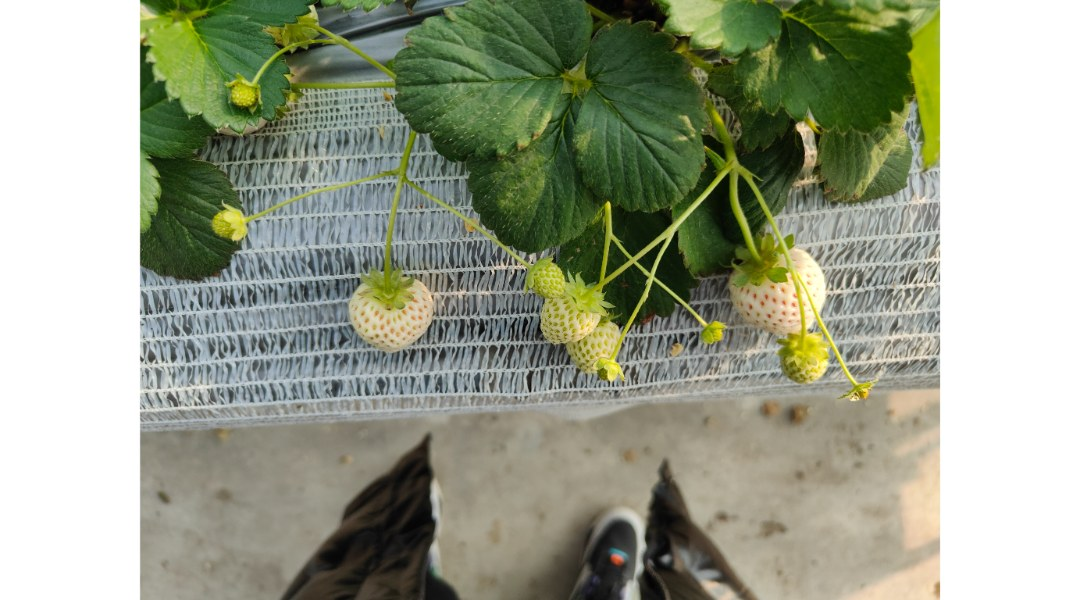berry: (731, 239, 838, 331), (344, 267, 440, 357), (529, 271, 602, 342), (778, 317, 833, 393), (506, 240, 566, 302), (570, 310, 619, 373), (204, 197, 249, 258), (221, 69, 269, 112), (700, 310, 724, 352)
strain: (413, 190, 525, 269), (801, 272, 860, 389), (251, 183, 384, 229), (744, 169, 796, 261), (275, 80, 385, 109), (673, 172, 726, 231), (255, 37, 329, 78), (612, 286, 649, 359), (338, 48, 399, 84), (377, 195, 401, 280), (615, 235, 648, 284), (728, 190, 751, 260), (786, 278, 811, 334), (393, 132, 423, 173), (592, 247, 611, 295), (653, 236, 674, 277), (600, 196, 617, 228)
